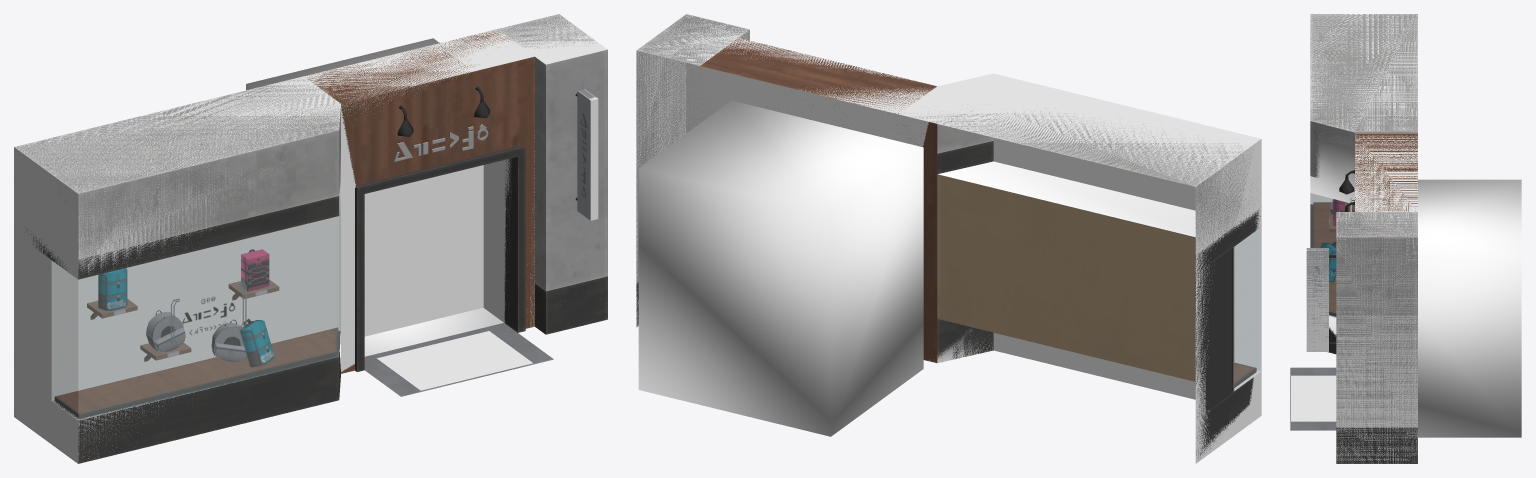
File: objects_un_dressupbag01.gltf
3 views of the same model, side by side, from view 1: azimuth 30°, elevation 25°; view 2: azimuth 150°, elevation 25°; view 3: azimuth 270°, elevation 25° (orthographic). The views are drawn at different scales.
Visible parts, largest first — view 1: um_objects_un_dressupbag01_model_lod0Shape:objects_un_dressu (×3), nomerge_dressupbag01_mesh01_shape:objects_un_dressupbag01_ob, um_objects_un_dressupbag01_model_lod1Shape:objects_un_dressu (×2), nomerge_dressupbag01_mesh01_shape:objects_un_shoppingsign01_, nomerge_objects_un_dressupbag01_mesh04_shape:objects_un_dres, nomerge_objects_un_dressupbag01_mesh03_shape:objects_un_dres; view 2: nomerge_objects_un_dressupbag01_mesh04_shape:objects_un_dres, nomerge_dressupbag01_mesh01_shape:objects_un_dressupbag01_ob, um_objects_un_dressupbag01_model_lod0Shape:objects_un_dressu (×2), um_objects_un_dressupbag01_model_lod1Shape:objects_un_dressu; view 3: nomerge_dressupbag01_mesh01_shape:objects_un_dressupbag01_ob, um_objects_un_dressupbag01_model_lod0Shape:objects_un_dressu (×3), nomerge_objects_un_dressupbag01_mesh04_shape:objects_un_dres, nomerge_dressupbag01_mesh01_shape:objects_un_shoppingsign01_, um_objects_un_dressupbag01_model_lod1Shape:objects_un_dressu, nomerge_objects_un_dressupbag01_mesh03_shape:objects_un_dres.
Part boxes in pixels (x1,y1,x2,y2): um_objects_un_dressupbag01_model_lod0Shape:objects_un_dressu (×3): [14, 14, 607, 463]; nomerge_dressupbag01_mesh01_shape:objects_un_dressupbag01_ob: [14, 14, 607, 463]; um_objects_un_dressupbag01_model_lod1Shape:objects_un_dressu (×2): [52, 204, 340, 419]; nomerge_dressupbag01_mesh01_shape:objects_un_shoppingsign01_: [377, 331, 532, 390]; nomerge_objects_un_dressupbag01_mesh04_shape:objects_un_dres: [246, 38, 503, 356]; nomerge_objects_un_dressupbag01_mesh03_shape:objects_un_dres: [577, 89, 598, 220]; nomerge_objects_un_dressupbag01_mesh04_shape:objects_un_dres: [638, 100, 923, 436]; nomerge_dressupbag01_mesh01_shape:objects_un_dressupbag01_ob: [636, 14, 1260, 458]; um_objects_un_dressupbag01_model_lod0Shape:objects_un_dressu (×2): [636, 14, 1261, 463]; um_objects_un_dressupbag01_model_lod1Shape:objects_un_dressu: [1234, 227, 1261, 389]; nomerge_dressupbag01_mesh01_shape:objects_un_dressupbag01_ob: [1290, 14, 1417, 463]; um_objects_un_dressupbag01_model_lod0Shape:objects_un_dressu (×3): [1306, 14, 1417, 463]; nomerge_objects_un_dressupbag01_mesh04_shape:objects_un_dres: [1418, 179, 1521, 437]; nomerge_dressupbag01_mesh01_shape:objects_un_shoppingsign01_: [1291, 375, 1336, 421]; um_objects_un_dressupbag01_model_lod1Shape:objects_un_dressu: [1310, 193, 1354, 316]; nomerge_objects_un_dressupbag01_mesh03_shape:objects_un_dres: [1306, 248, 1328, 351].
Size of what is drawn, in the model's own units: 7.12 by 3.37 by 3.12.
6 materials, 3 textured.
